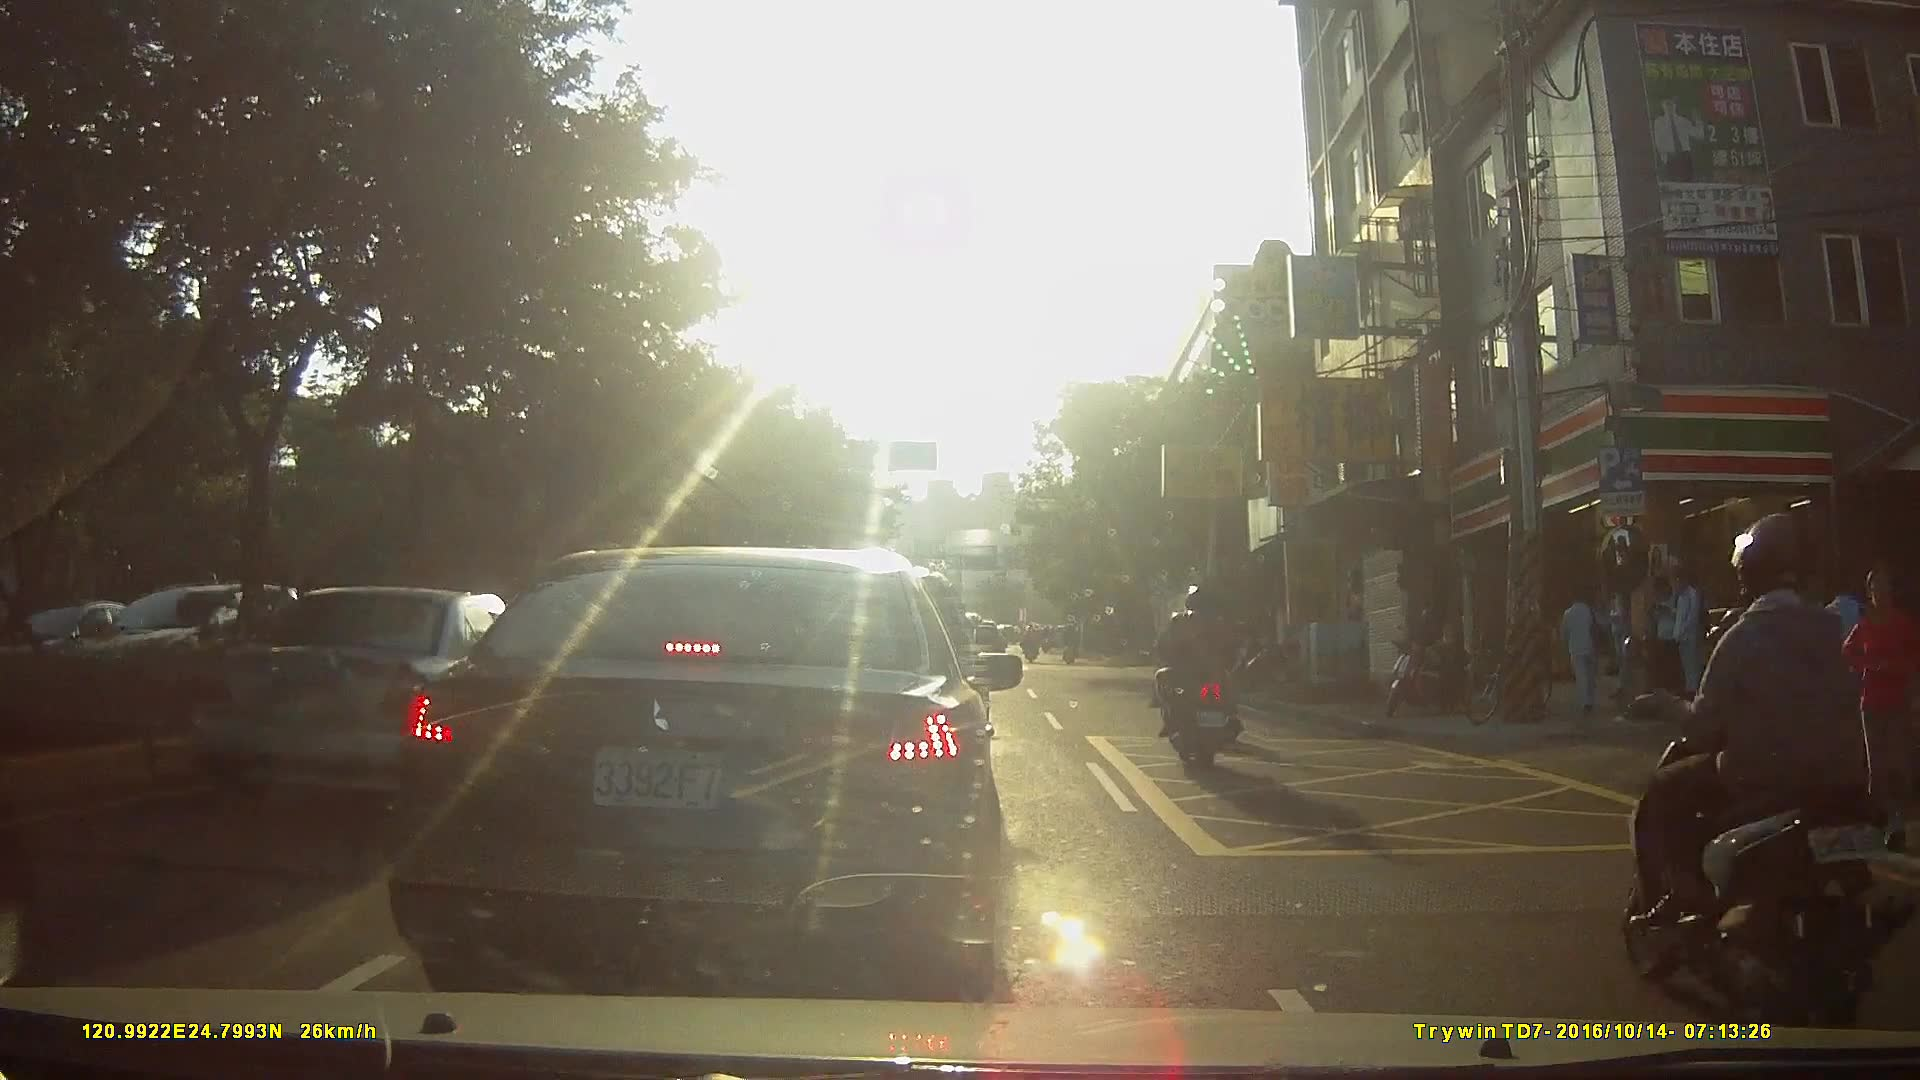pedestrian: (1838, 567, 1920, 854), (1807, 573, 1874, 770), (1556, 579, 1608, 715), (1610, 574, 1655, 708), (1649, 569, 1688, 706), (1664, 569, 1705, 699), (1675, 563, 1710, 695)
rider: (1632, 510, 1885, 1060), (1156, 585, 1245, 773), (1060, 619, 1082, 664), (1022, 618, 1043, 666)
vehicle: (380, 540, 1038, 984), (183, 579, 583, 814), (81, 579, 310, 701)
